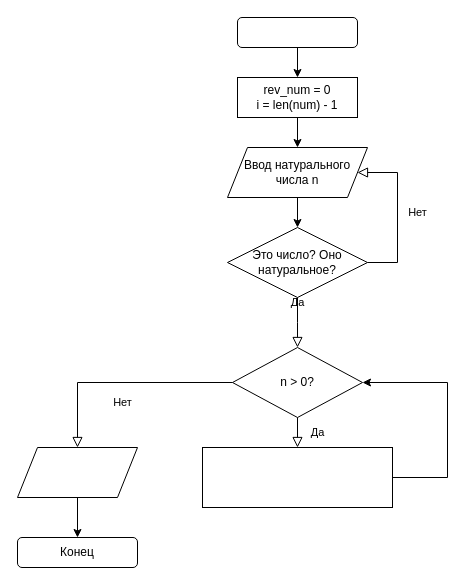
Image size: 473x585. Some labels were removed from this diagram. Each missing label, with the box of its shape:
rev_ num = rev_ num + (n % 10) * 10 ** i n = n // 10 i -= 1: (202, 446, 392, 508)
rev_num: (16, 446, 138, 498)
Начало: (236, 16, 358, 48)
